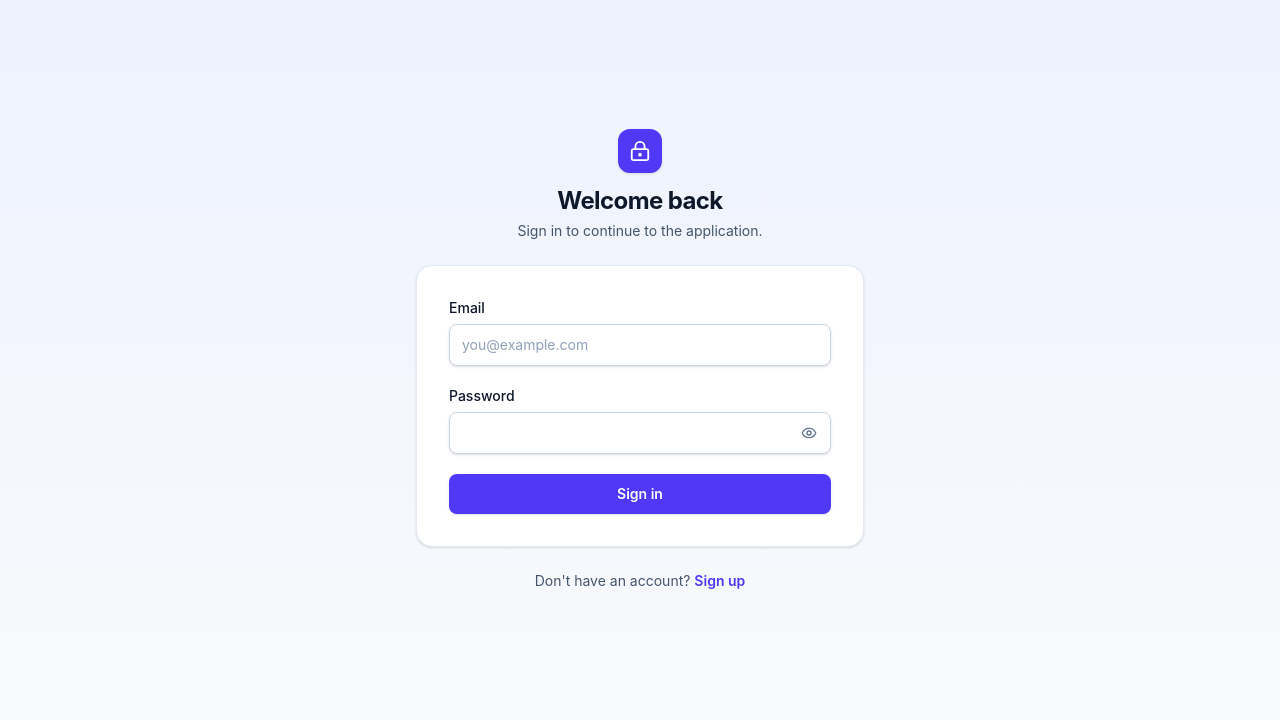
Test case: auth flow › signs in and returns to the page that was originally requested
Type "jane@example.com" into the field labelled "Email" at (640, 345), box [449,324,831,366]
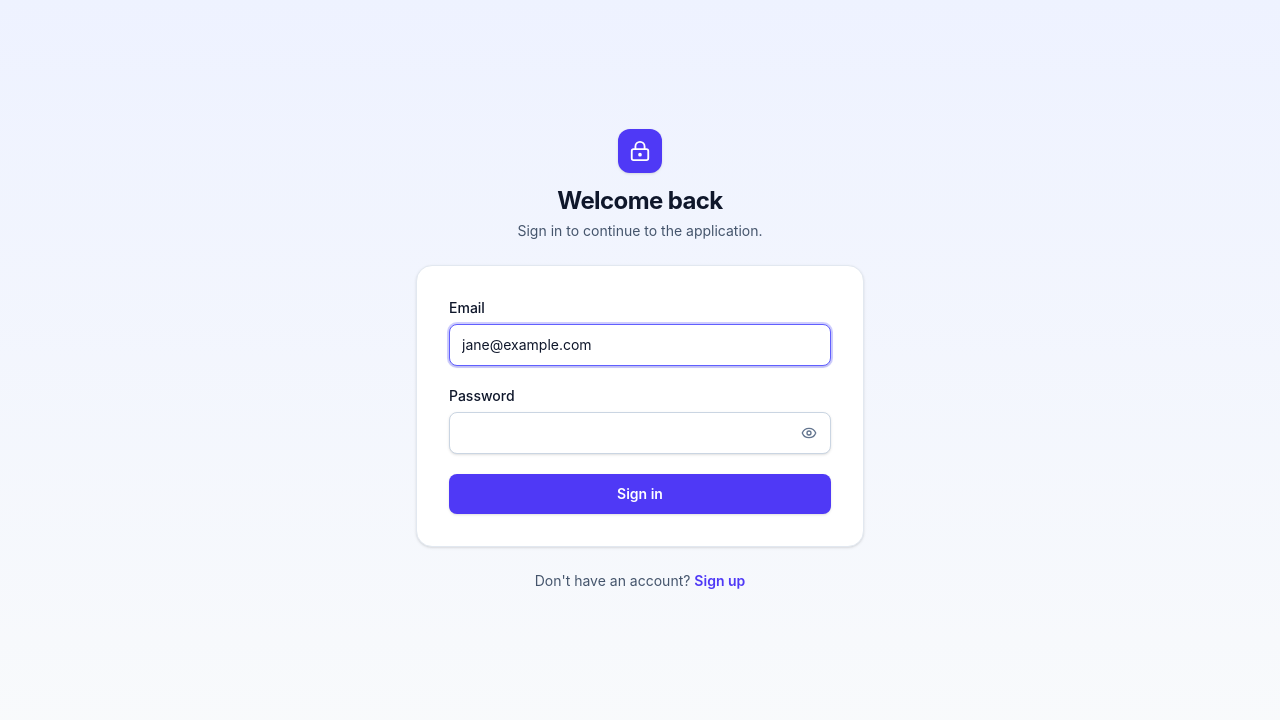
Type "Passw0rd!" into the password field labelled "Password" at (640, 433), box [449,412,831,454]
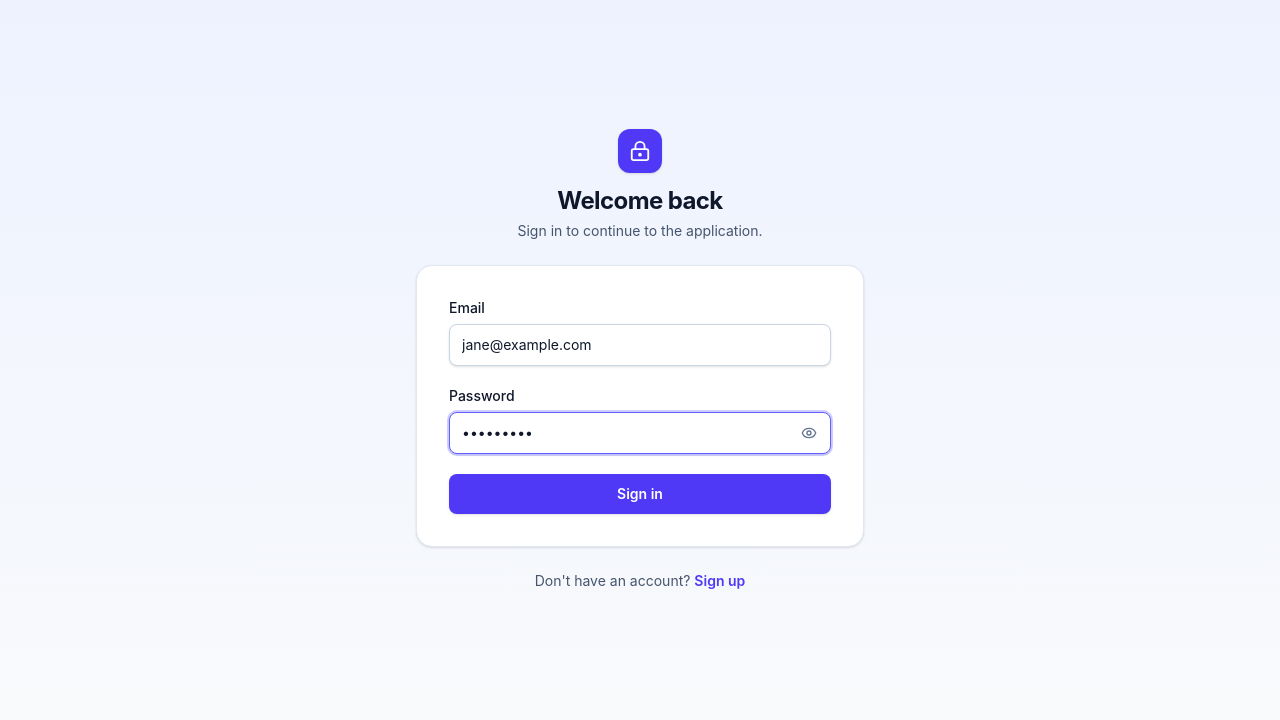
Click the button "Sign in" at (640, 494), box [449,474,831,514]
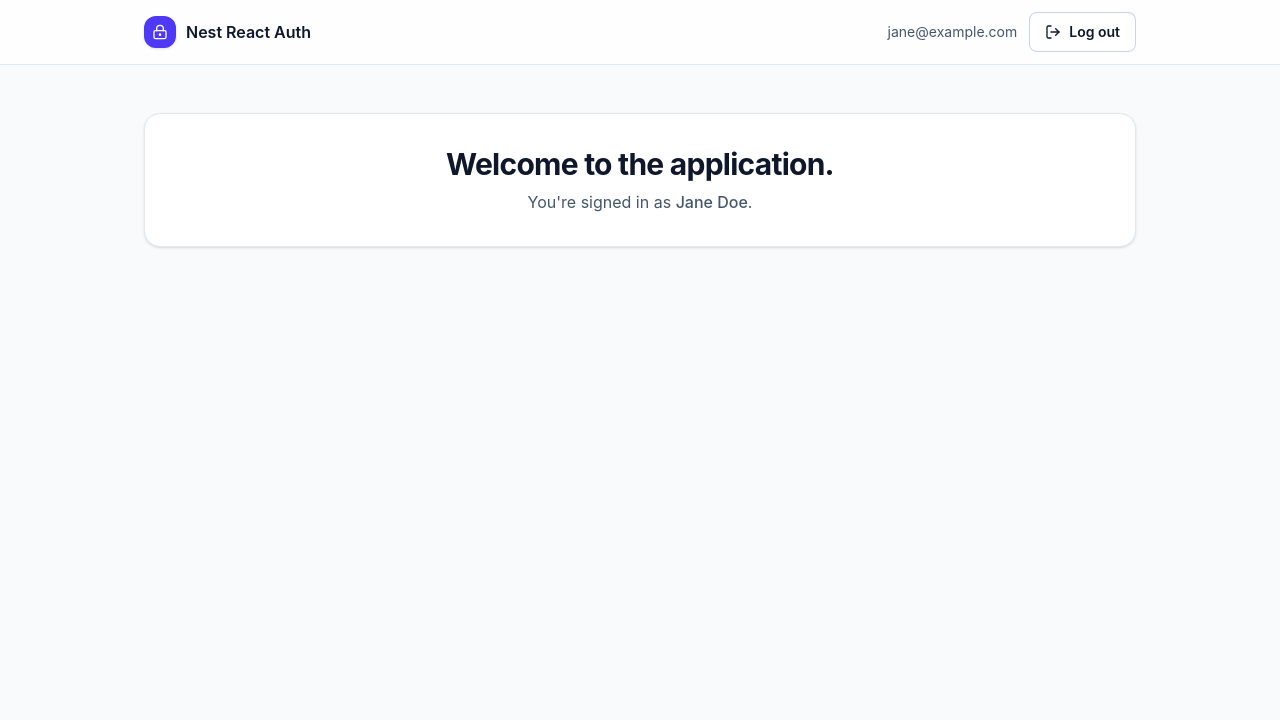
Now the heading "Welcome to the application." is shown, box [446,146,834,182]
